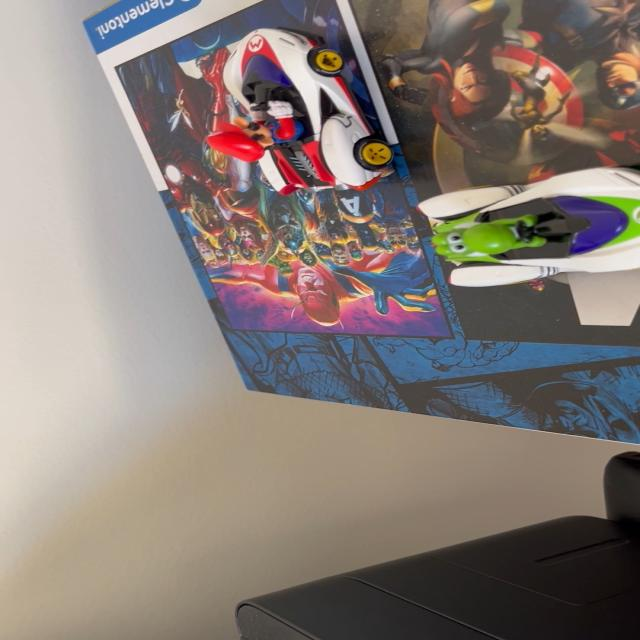mario: (197, 8, 412, 200)
yoshi: (408, 160, 640, 298)
